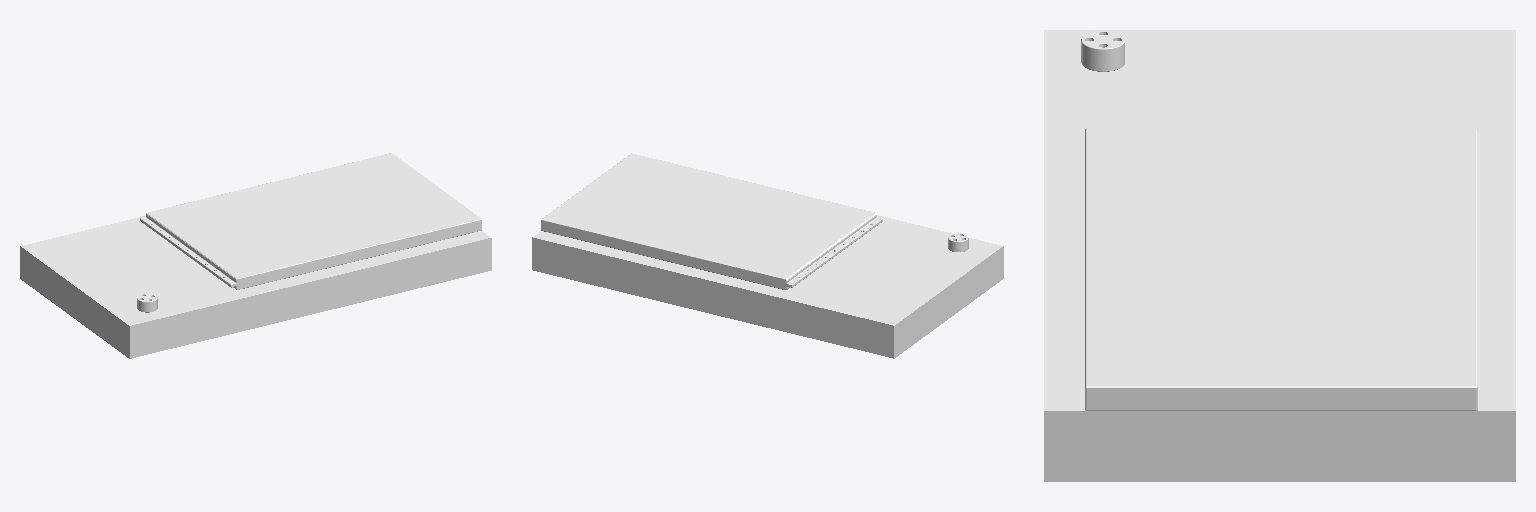
The robot description file, URDF, robot "battery_pack":
<?xml version="1.0" encoding="utf-8"?>
<!-- This URDF was automatically created by SolidWorks to URDF Exporter! Originally created by [author] ([email redacted]) 
     Commit Version: 1.6.0-4-g7f85cfe  Build Version: 1.6.7995.38578
     For more information, please see http://wiki.ros.org/sw_urdf_exporter -->
<robot
  name="battery_pack">
  <link
    name="battery_pack_base_link">
    <inertial>
      <origin
        xyz="1.011 0.00066689 -0.077539"
        rpy="0 0 0" />
      <mass
        value="662.17" />
      <inertia
        ixx="77.302"
        ixy="0.00076184"
        ixz="6.3202E-09"
        iyy="267.99"
        iyz="1.6099E-09"
        izz="341.52" />
    </inertial>
    <visual>
      <origin
        xyz="0 0 0"
        rpy="0 0 0" />
      <geometry>
        <mesh
          filename="package://battery_pack/meshes/battery_pack_base_link.STL" />
      </geometry>
      <material
        name="">
        <color
          rgba="1 1 1 1" />
      </material>
    </visual>
    <collision>
      <origin
        xyz="0 0 0"
        rpy="0 0 0" />
      <geometry>
        <mesh
          filename="package://battery_pack/meshes/battery_pack_base_link.STL" />
      </geometry>
    </collision>
  </link>
  <link
    name="M6_1_Link">
    <inertial>
      <origin
        xyz="-1.5781E-08 1.7199E-07 -0.013589"
        rpy="0 0 0" />
      <mass
        value="0.0013212" />
      <inertia
        ixx="1.3904E-07"
        ixy="-5.0602E-13"
        ixz="5.5231E-11"
        iyy="1.3904E-07"
        iyz="-1.7203E-11"
        izz="1.0587E-08" />
    </inertial>
    <visual>
      <origin
        xyz="0 0 0"
        rpy="0 0 0" />
      <geometry>
        <mesh
          filename="package://battery_pack/meshes/M6_1_Link.STL" />
      </geometry>
      <material
        name="">
        <color
          rgba="1 1 1 1" />
      </material>
    </visual>
    <collision>
      <origin
        xyz="0 0 0"
        rpy="0 0 0" />
      <geometry>
        <mesh
          filename="package://battery_pack/meshes/M6_1_Link.STL" />
      </geometry>
    </collision>
  </link>
  <joint
    name="M6_1_Joint"
    type="fixed">
    <origin
      xyz="0.521499999999999 0.404 0.051"
      rpy="0 0 0" />
    <parent
      link="battery_pack_base_link" />
    <child
      link="M6_1_Link" />
    <axis
      xyz="0 0 1" />
  </joint>
  <link
    name="M6_2_Link">
    <inertial>
      <origin
        xyz="-1.69178282917459E-07 -3.47719712190386E-08 -0.0135893488314754"
        rpy="0 0 0" />
      <mass
        value="0.0013211670322828" />
      <inertia
        ixx="1.39039904452008E-07"
        ixy="7.53479092438269E-13"
        ixz="1.09674715667674E-11"
        iyy="1.39037829163727E-07"
        iyz="5.67986038374194E-11"
        izz="1.05870312742737E-08" />
    </inertial>
    <visual>
      <origin
        xyz="0 0 0"
        rpy="0 0 0" />
      <geometry>
        <mesh
          filename="package://battery_pack/meshes/M6_2_Link.STL" />
      </geometry>
      <material
        name="">
        <color
          rgba="1 1 1 1" />
      </material>
    </visual>
    <collision>
      <origin
        xyz="0 0 0"
        rpy="0 0 0" />
      <geometry>
        <mesh
          filename="package://battery_pack/meshes/M6_2_Link.STL" />
      </geometry>
    </collision>
  </link>
  <joint
    name="M6_2_Joint"
    type="fixed">
    <origin
      xyz="0.521499999999999 0.304000000000001 0.051"
      rpy="0 0 0" />
    <parent
      link="battery_pack_base_link" />
    <child
      link="M6_2_Link" />
    <axis
      xyz="0 0 1" />
  </joint>
  <link
    name="M6_3_Link">
    <inertial>
      <origin
        xyz="-8.60276639161328E-09 -1.7250035883043E-07 -0.0135893488314759"
        rpy="0 0 0" />
      <mass
        value="0.00132116703228283" />
      <inertia
        ixx="1.39037594136452E-07"
        ixy="-1.57300860848985E-13"
        ixz="-5.22565946292113E-11"
        iyy="1.39040139479292E-07"
        iyz="2.4811593020993E-11"
        izz="1.0587031274274E-08" />
    </inertial>
    <visual>
      <origin
        xyz="0 0 0"
        rpy="0 0 0" />
      <geometry>
        <mesh
          filename="package://battery_pack/meshes/M6_3_Link.STL" />
      </geometry>
      <material
        name="">
        <color
          rgba="1 1 1 1" />
      </material>
    </visual>
    <collision>
      <origin
        xyz="0 0 0"
        rpy="0 0 0" />
      <geometry>
        <mesh
          filename="package://battery_pack/meshes/M6_3_Link.STL" />
      </geometry>
    </collision>
  </link>
  <joint
    name="M6_3_Joint"
    type="fixed">
    <origin
      xyz="0.521499999999999 0.204000000000001 0.051"
      rpy="0 0 0" />
    <parent
      link="battery_pack_base_link" />
    <child
      link="M6_3_Link" />
    <axis
      xyz="0 0 1" />
  </joint>
  <link
    name="M8_1_Link">
    <inertial>
      <origin
        xyz="-2.38202364499784E-08 -1.06578474601271E-07 -0.0141810682031523"
        rpy="0 0 0" />
      <mass
        value="0.00214941637065255" />
      <inertia
        ixx="2.26889617708073E-07"
        ixy="3.85731537612252E-12"
        ixz="-1.32208549983177E-11"
        iyy="2.26889580273997E-07"
        iyz="9.83462091995749E-11"
        izz="2.59232568951157E-08" />
    </inertial>
    <visual>
      <origin
        xyz="0 0 0"
        rpy="0 0 0" />
      <geometry>
        <mesh
          filename="package://battery_pack/meshes/M8_1_Link.STL" />
      </geometry>
      <material
        name="">
        <color
          rgba="1 1 1 1" />
      </material>
    </visual>
    <collision>
      <origin
        xyz="0 0 0"
        rpy="0 0 0" />
      <geometry>
        <mesh
          filename="package://battery_pack/meshes/M8_1_Link.STL" />
      </geometry>
    </collision>
  </link>
  <joint
    name="M8_1_Joint"
    type="fixed">
    <origin
      xyz="0.521499999999999 0.104000000000001 0.051"
      rpy="0 0 0" />
    <parent
      link="battery_pack_base_link" />
    <child
      link="M8_1_Link" />
    <axis
      xyz="0 0 1" />
  </joint>
  <link
    name="M8_2_Link">
    <inertial>
      <origin
        xyz="-1.02373083312596E-07 3.80279728817712E-08 -0.014181068203152"
        rpy="0 0 0" />
      <mass
        value="0.00214941637065243" />
      <inertia
        ixx="2.26888546281706E-07"
        ixy="-3.71093456176309E-12"
        ixz="9.92306520596295E-11"
        iyy="2.26890651700353E-07"
        iyz="-2.1345480205816E-13"
        izz="2.59232568951147E-08" />
    </inertial>
    <visual>
      <origin
        xyz="0 0 0"
        rpy="0 0 0" />
      <geometry>
        <mesh
          filename="package://battery_pack/meshes/M8_2_Link.STL" />
      </geometry>
      <material
        name="">
        <color
          rgba="1 1 1 1" />
      </material>
    </visual>
    <collision>
      <origin
        xyz="0 0 0"
        rpy="0 0 0" />
      <geometry>
        <mesh
          filename="package://battery_pack/meshes/M8_2_Link.STL" />
      </geometry>
    </collision>
  </link>
  <joint
    name="M8_2_Joint"
    type="fixed">
    <origin
      xyz="0.5215 0.00400000000000017 0.051"
      rpy="0 0 0" />
    <parent
      link="battery_pack_base_link" />
    <child
      link="M8_2_Link" />
    <axis
      xyz="0 0 1" />
  </joint>
  <link
    name="M8_3_Link">
    <inertial>
      <origin
        xyz="-2.01929955395697E-10 -1.09207756837648E-07 -0.0141810682031523"
        rpy="0 0 0" />
      <mass
        value="0.00214941637065255" />
      <inertia
        ixx="2.26887986689396E-07"
        ixy="3.50424252391948E-12"
        ixz="-3.41814286274526E-11"
        iyy="2.26891211292673E-07"
        iyz="9.31579186529471E-11"
        izz="2.59232568951155E-08" />
    </inertial>
    <visual>
      <origin
        xyz="0 0 0"
        rpy="0 0 0" />
      <geometry>
        <mesh
          filename="package://battery_pack/meshes/M8_3_Link.STL" />
      </geometry>
      <material
        name="">
        <color
          rgba="1 1 1 1" />
      </material>
    </visual>
    <collision>
      <origin
        xyz="0 0 0"
        rpy="0 0 0" />
      <geometry>
        <mesh
          filename="package://battery_pack/meshes/M8_3_Link.STL" />
      </geometry>
    </collision>
  </link>
  <joint
    name="M8_3_Joint"
    type="fixed">
    <origin
      xyz="0.521499999999999 -0.0959999999999996 0.051"
      rpy="0 0 0" />
    <parent
      link="battery_pack_base_link" />
    <child
      link="M8_3_Link" />
    <axis
      xyz="0 0 1" />
  </joint>
  <link
    name="M10_1_Link">
    <inertial>
      <origin
        xyz="1.2099E-08 1.6147E-07 -0.014551"
        rpy="0 0 0" />
      <mass
        value="0.003184" />
      <inertia
        ixx="3.3964E-07"
        ixy="2.984E-12"
        ixz="-8.2695E-11"
        iyy="3.3963E-07"
        iyz="-1.2764E-10"
        izz="5.4565E-08" />
    </inertial>
    <visual>
      <origin
        xyz="0 0 0"
        rpy="0 0 0" />
      <geometry>
        <mesh
          filename="package://battery_pack/meshes/M10_1_Link.STL" />
      </geometry>
      <material
        name="">
        <color
          rgba="1 1 1 1" />
      </material>
    </visual>
    <collision>
      <origin
        xyz="0 0 0"
        rpy="0 0 0" />
      <geometry>
        <mesh
          filename="package://battery_pack/meshes/M10_1_Link.STL" />
      </geometry>
    </collision>
  </link>
  <joint
    name="M10_1_Joint"
    type="fixed">
    <origin
      xyz="0.521499999999999 -0.195999999999999 0.051"
      rpy="0 0 0" />
    <parent
      link="battery_pack_base_link" />
    <child
      link="M10_1_Link" />
    <axis
      xyz="0 0 1" />
  </joint>
  <link
    name="M10_2_Link">
    <inertial>
      <origin
        xyz="9.32071248065103E-08 -1.32411443809488E-07 -0.0145514306641357"
        rpy="0 0 0" />
      <mass
        value="0.00318400891749434" />
      <inertia
        ixx="3.39634678064643E-07"
        ixy="9.12955867180453E-12"
        ixz="-1.71908915788173E-11"
        iyy="3.39637163497738E-07"
        iyz="1.511156655482E-10"
        izz="5.45645313298763E-08" />
    </inertial>
    <visual>
      <origin
        xyz="0 0 0"
        rpy="0 0 0" />
      <geometry>
        <mesh
          filename="package://battery_pack/meshes/M10_2_Link.STL" />
      </geometry>
      <material
        name="">
        <color
          rgba="1 1 1 1" />
      </material>
    </visual>
    <collision>
      <origin
        xyz="0 0 0"
        rpy="0 0 0" />
      <geometry>
        <mesh
          filename="package://battery_pack/meshes/M10_2_Link.STL" />
      </geometry>
    </collision>
  </link>
  <joint
    name="M10_2_Joint"
    type="fixed">
    <origin
      xyz="0.5215 -0.296 0.051"
      rpy="0 0 0" />
    <parent
      link="battery_pack_base_link" />
    <child
      link="M10_2_Link" />
    <axis
      xyz="0 0 0" />
  </joint>
  <link
    name="M10_3_Link">
    <inertial>
      <origin
        xyz="1.5901E-07 -3.0597E-08 -0.014551"
        rpy="0 0 0" />
      <mass
        value="0.003184" />
      <inertia
        ixx="3.3963E-07"
        ixy="-9.123E-13"
        ixz="-1.1728E-10"
        iyy="3.3965E-07"
        iyz="9.6832E-11"
        izz="5.4565E-08" />
    </inertial>
    <visual>
      <origin
        xyz="0 0 0"
        rpy="0 0 0" />
      <geometry>
        <mesh
          filename="package://battery_pack/meshes/M10_3_Link.STL" />
      </geometry>
      <material
        name="">
        <color
          rgba="1 1 1 1" />
      </material>
    </visual>
    <collision>
      <origin
        xyz="0 0 0"
        rpy="0 0 0" />
      <geometry>
        <mesh
          filename="package://battery_pack/meshes/M10_3_Link.STL" />
      </geometry>
    </collision>
  </link>
  <joint
    name="M10_3_Joint"
    type="fixed">
    <origin
      xyz="0.521499999999995 -0.396000000000006 0.051"
      rpy="0 0 0" />
    <parent
      link="battery_pack_base_link" />
    <child
      link="M10_3_Link" />
    <axis
      xyz="0 0 1" />
  </joint>
  <link
    name="sleeve_plate_Link">
    <inertial>
      <origin
        xyz="-0.00051088 0.00023914 -0.033555"
        rpy="0 0 0" />
      <mass
        value="0.58226" />
      <inertia
        ixx="0.00067784"
        ixy="-8.9616E-08"
        ixz="7.503E-07"
        iyy="0.00066736"
        iyz="-3.2443E-07"
        izz="0.00093345" />
    </inertial>
    <visual>
      <origin
        xyz="0 0 0"
        rpy="0 0 0" />
      <geometry>
        <mesh
          filename="package://battery_pack/meshes/sleeve_plate_Link.STL" />
      </geometry>
      <material
        name="">
        <color
          rgba="1 1 1 1" />
      </material>
    </visual>
    <collision>
      <origin
        xyz="0 0 0"
        rpy="0 0 0" />
      <geometry>
        <mesh
          filename="package://battery_pack/meshes/sleeve_plate_Link.STL" />
      </geometry>
    </collision>
  </link>
  <joint
    name="sleeve_plate_Joint"
    type="fixed">
    <origin
      xyz="0 -0.45 0.065"
      rpy="0 0 0" />
    <parent
      link="battery_pack_base_link" />
    <child
      link="sleeve_plate_Link" />
    <axis
      xyz="0 0 0" />
  </joint>
</robot>

--- Facts derived from the render (not from the file) ---
3 views of the same robot in one strip: view 1: azimuth 30°, elevation 25°; view 2: azimuth 150°, elevation 25°; view 3: azimuth 270°, elevation 25° (orthographic).
Model battery_pack with 11 links and 10 joints (10 fixed), rooted at battery_pack_base_link, posed all joints at 0.
Visible links, largest first — view 1: battery_pack_base_link; view 2: battery_pack_base_link; view 3: battery_pack_base_link, sleeve_plate_Link.
Link boxes in pixels (bbox=[...]): battery_pack_base_link: bbox=[20, 153, 491, 358]; battery_pack_base_link: bbox=[532, 153, 1003, 358]; battery_pack_base_link: bbox=[1044, 30, 1515, 481]; sleeve_plate_Link: bbox=[1081, 31, 1124, 71].
Size in the robot's own frame: 2.3 by 1.2 by 0.27 metres.
11 mesh visuals loaded from 11 distinct referenced files (11 binary STL).